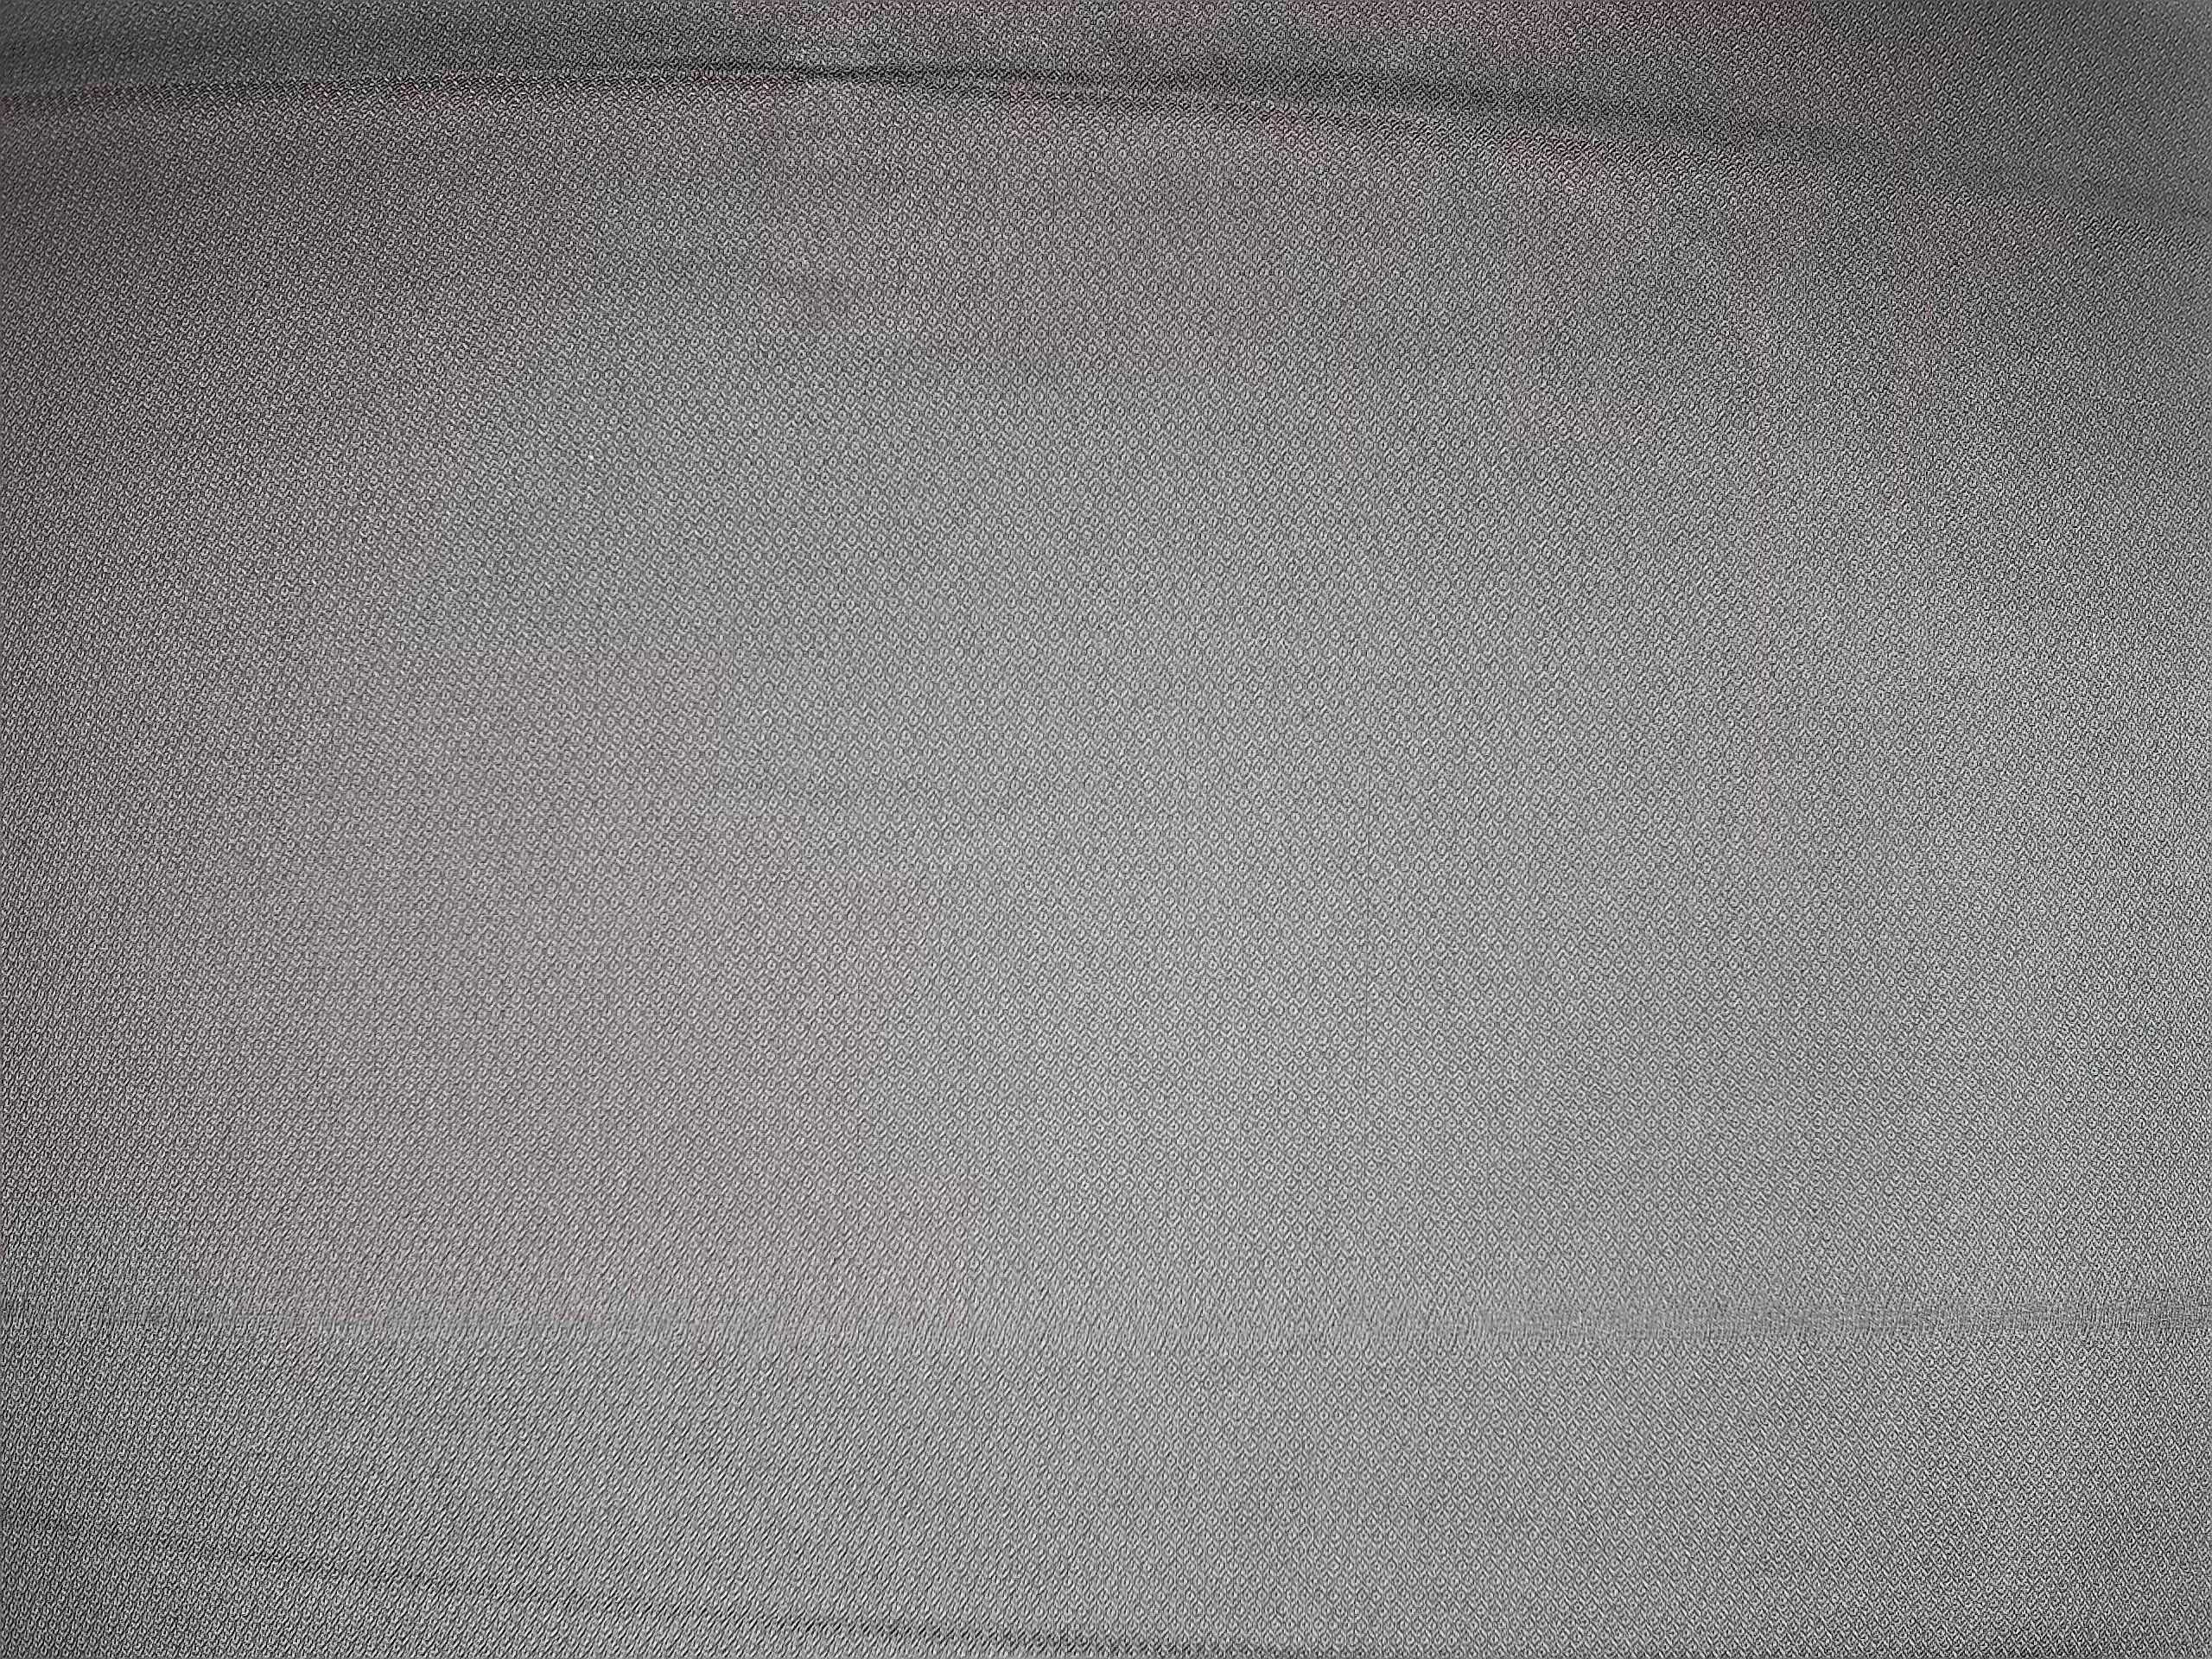thin-spinning: (308, 1300, 1649, 1359)
